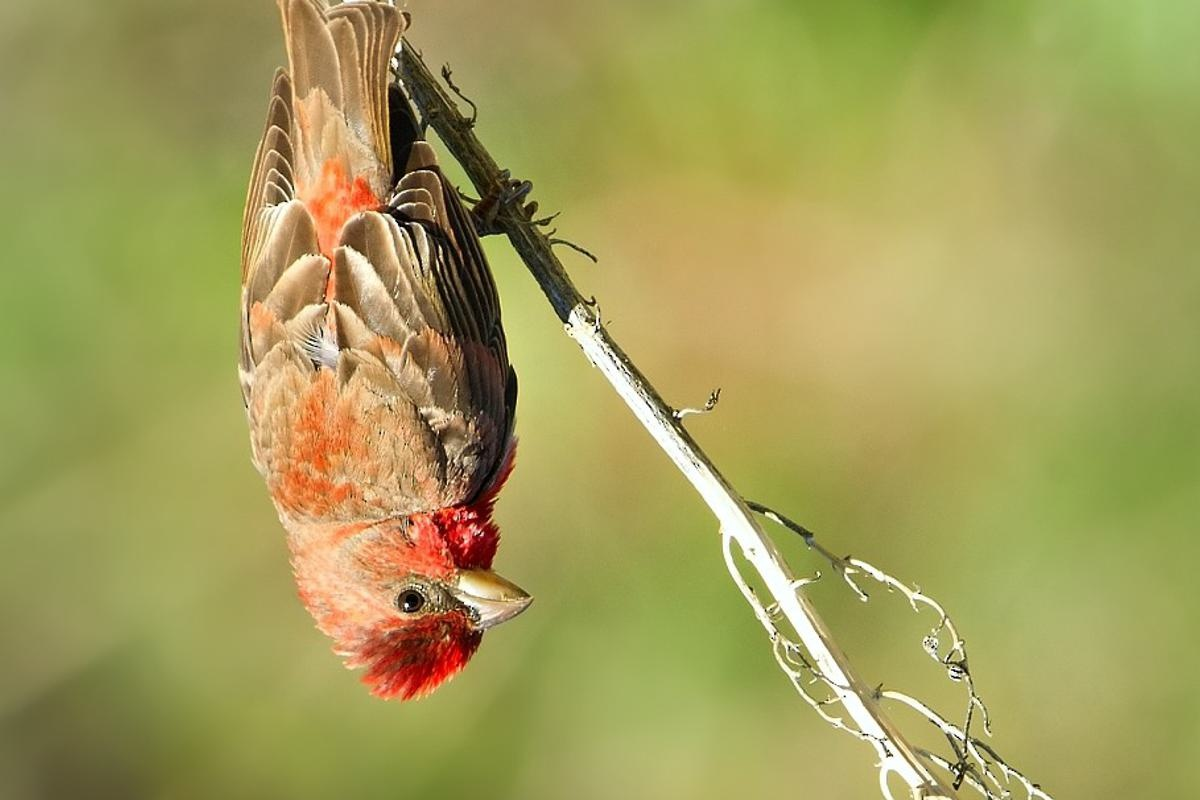rosefinch: (245, 42, 523, 685)
